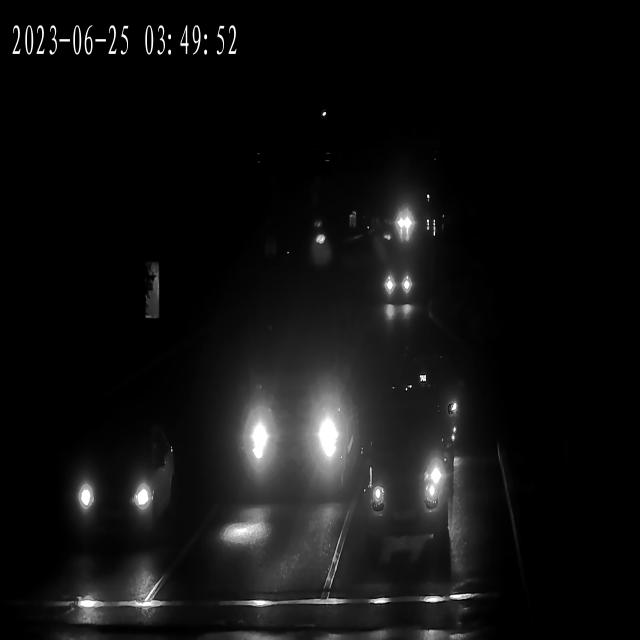Car: (228, 352, 354, 500), (55, 423, 176, 547), (366, 417, 457, 533), (402, 360, 466, 447), (377, 262, 414, 308), (388, 213, 412, 235), (392, 215, 416, 236), (389, 219, 412, 240)
